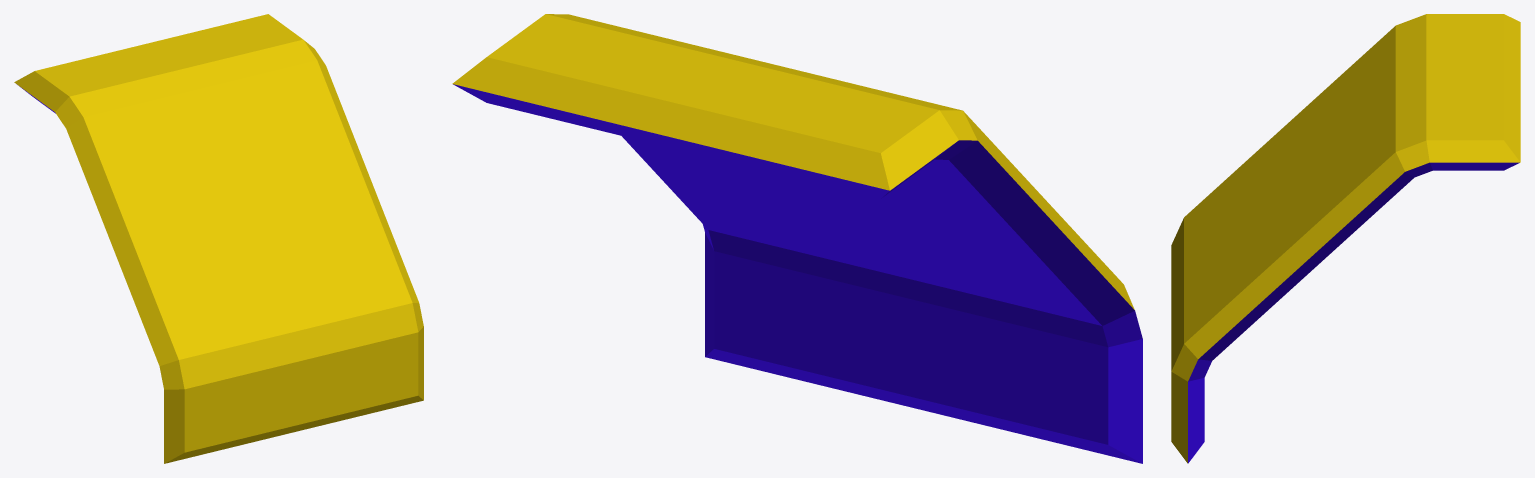
File: sFuture Modules Pro 45 Panel.FBX
3 views of the same model, side by side, from view 1: azimuth 30°, elevation 25°; view 2: azimuth 150°, elevation 25°; view 3: azimuth 270°, elevation 25° (orthographic). The views are drawn at different scales.
Parts seen in each view (by area): view 1: 45 panel; view 2: 45 panel; view 3: 45 panel.
Part boxes in pixels (x1=…): 45 panel: x1=14, y1=14, x2=423, y2=463; 45 panel: x1=452, y1=14, x2=1142, y2=463; 45 panel: x1=1171, y1=14, x2=1520, y2=463.
Bounding box in the file's own units: 3 × 3.15 × 3.15.
